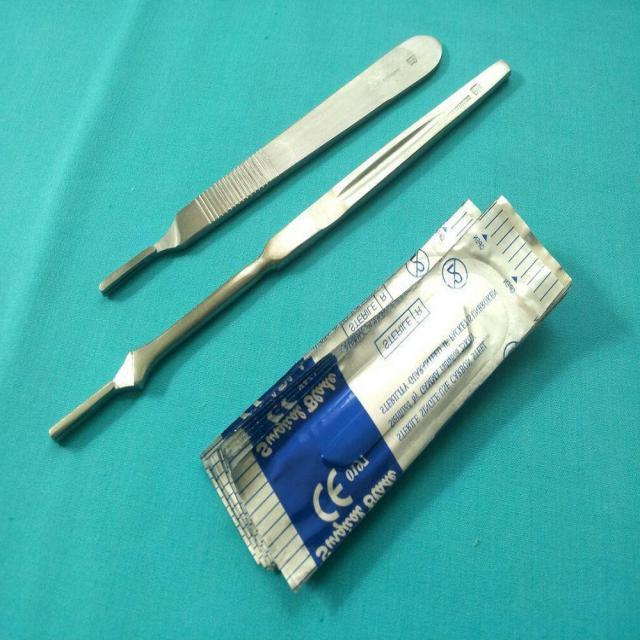Scalpel: (44, 54, 512, 443), (94, 28, 448, 303)
